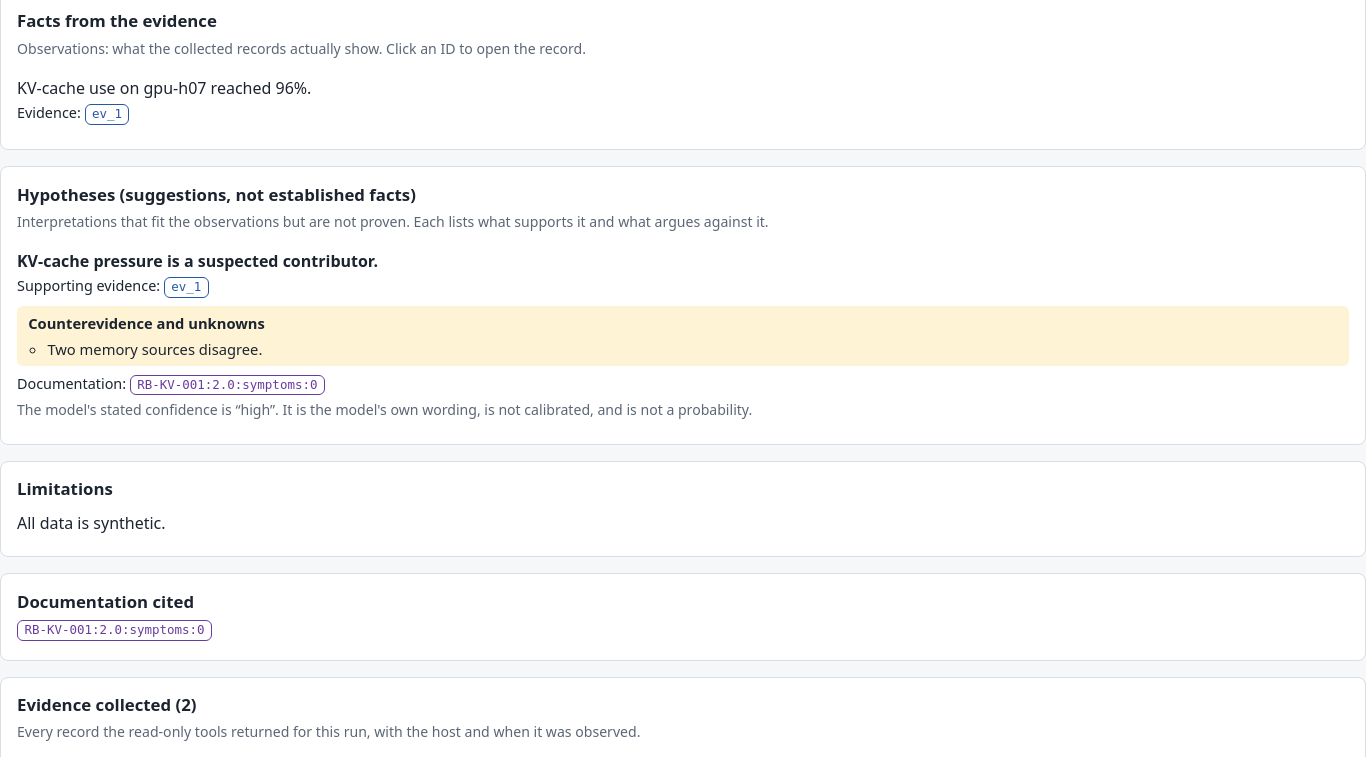
it: RunPage: completed investigation › resolves a citation to the actual passage, version and source
The image size is (1366, 757).
(page scrolled)
Check: the heading "Facts from the evidence" is shown, box 17,10 -> 217,32
Click the button with aria-label "Documentation passage RB-KV-001:2.0:symptoms:0": click(227, 385) 130,374 -> 325,395
(page scrolled)
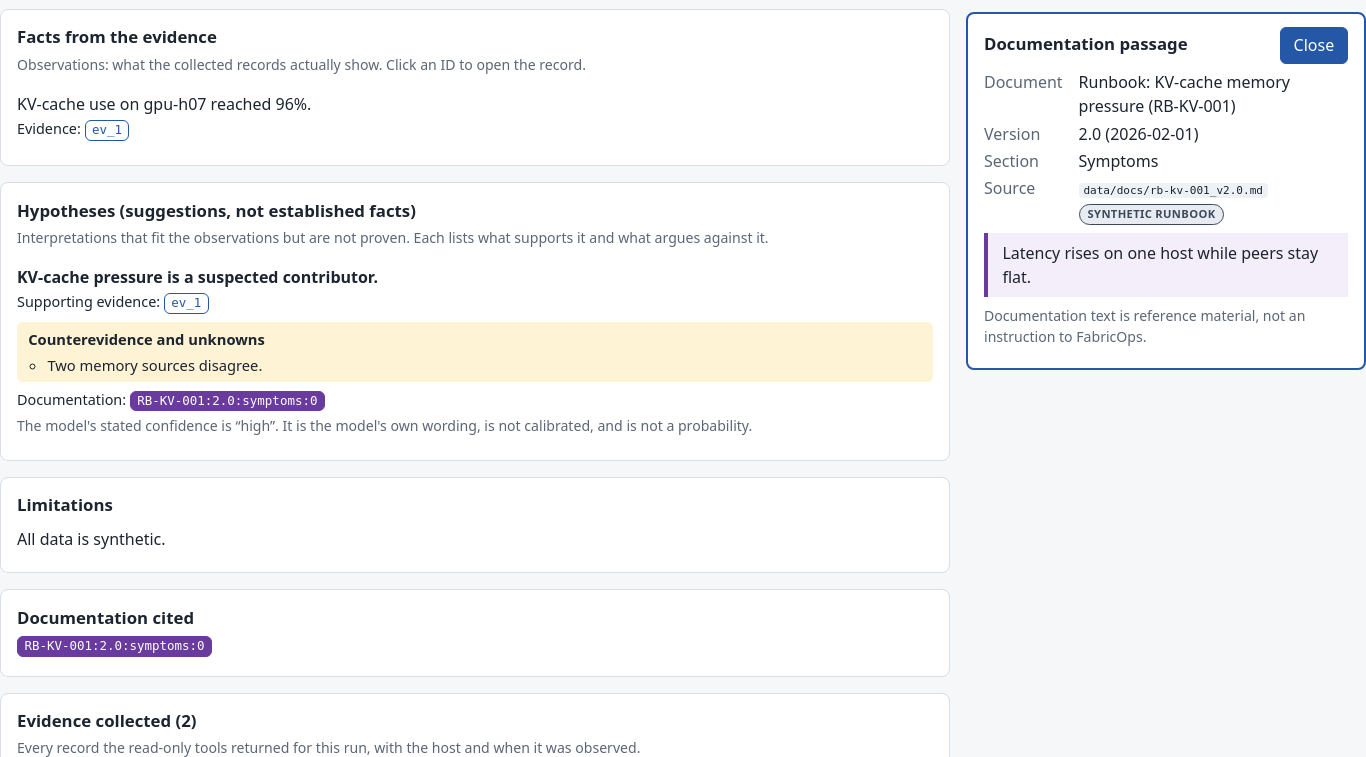
Check: the text "Latency rises on one host while peers stay flat." is shown, box 984,232 -> 1348,296
Check: the text "2.0 (2026-02-01)" is shown, box 1079,123 -> 1198,145
Check: the text "Symptoms" is shown, box 1079,150 -> 1158,172
